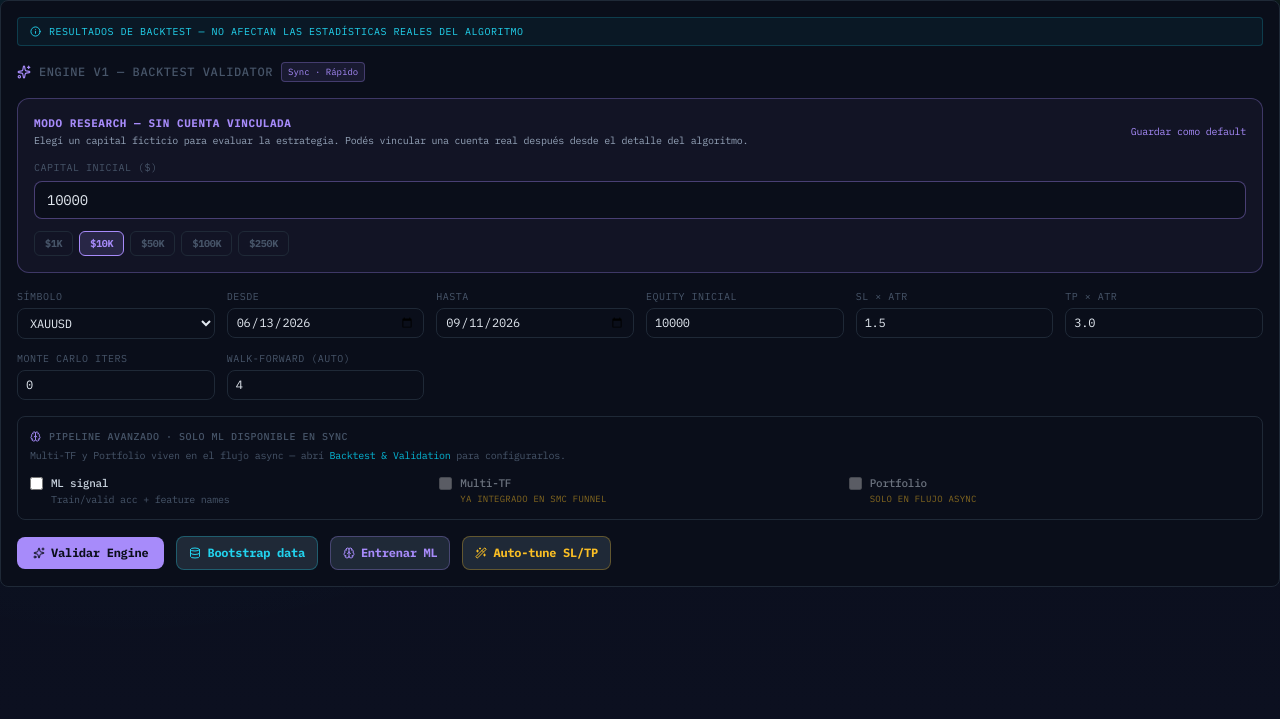
Test case: EngineBacktestPanel — advanced toggles (Gap #1) › shows insufficient-data warning when walk-forward returns empty windows (Mejora #3)
Click the button "Validar Engine" at (91, 552), box [17,536,164,568]
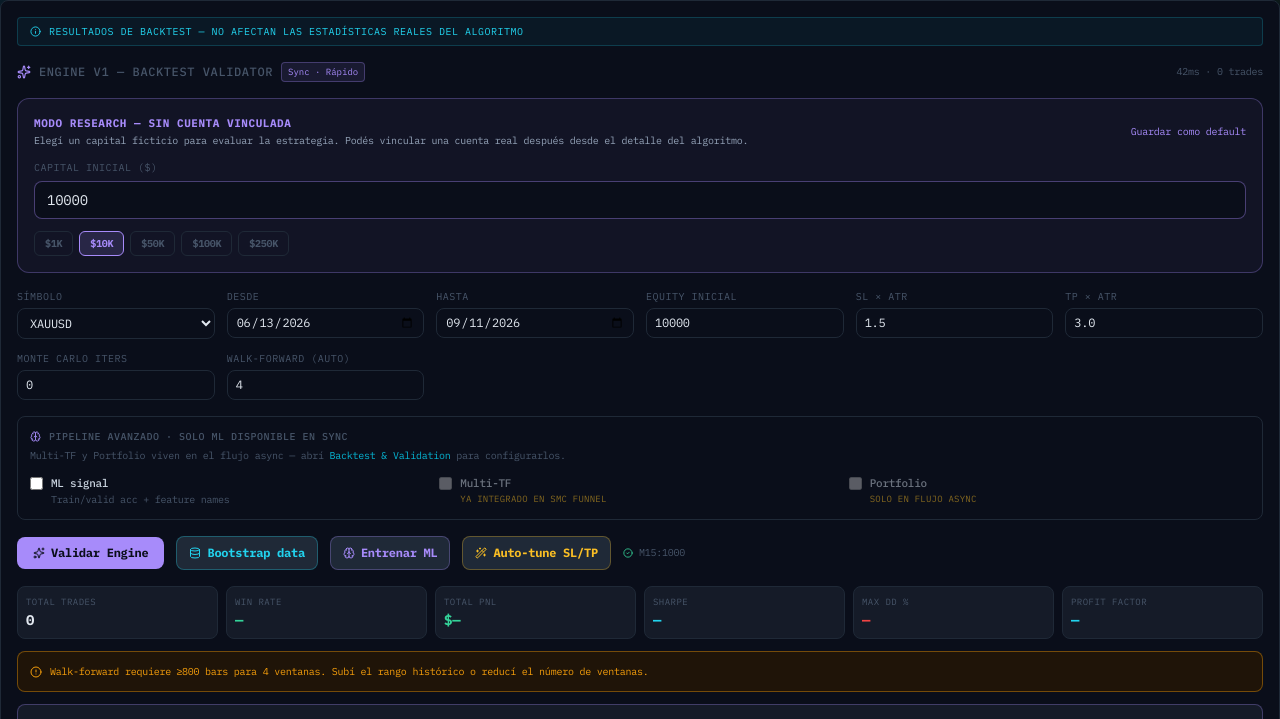
Expected: the element with test id "walk-forward-insufficient" is shown, [17,651,1263,692]
Expected: the text "Walk-forward requiere ≥800 bars" is shown, [50,664,649,679]
